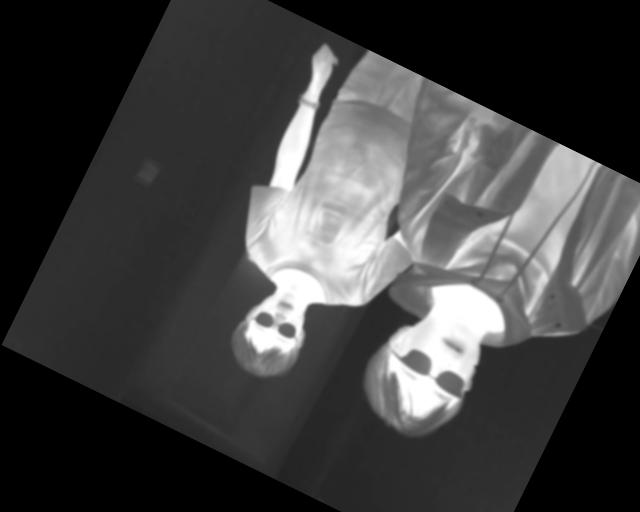face: (346, 292, 497, 454), (219, 275, 323, 390)
